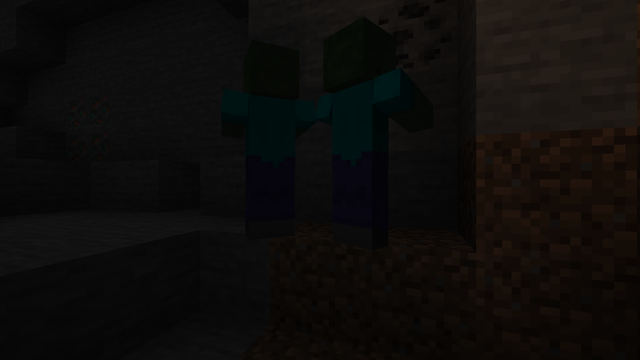zombies: (320, 19, 393, 253), (230, 42, 305, 244)
